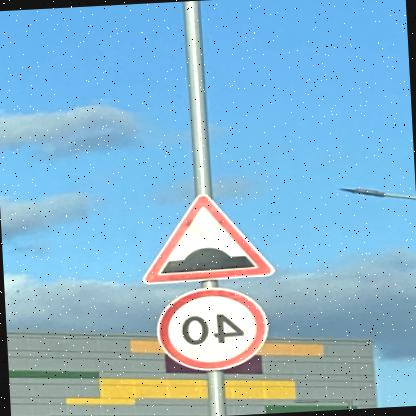speedlimit: (156, 284, 272, 370)
